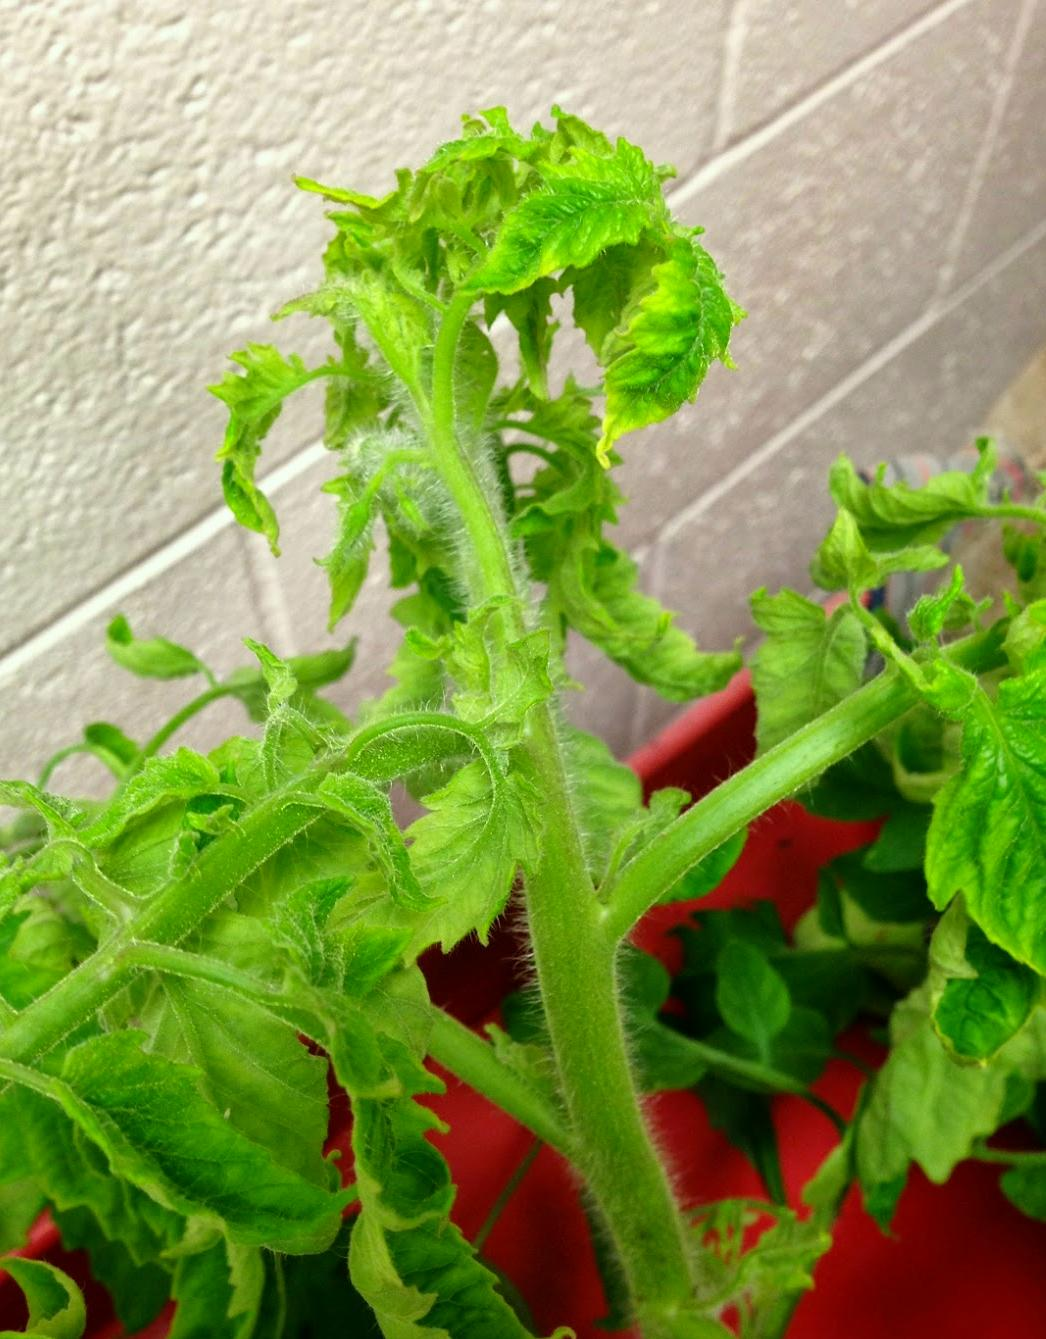Tomato leaf yellow virus: (317, 991, 564, 1339), (18, 1021, 335, 1277), (898, 636, 1046, 1004), (569, 233, 751, 502), (345, 733, 539, 962), (446, 115, 653, 328)
